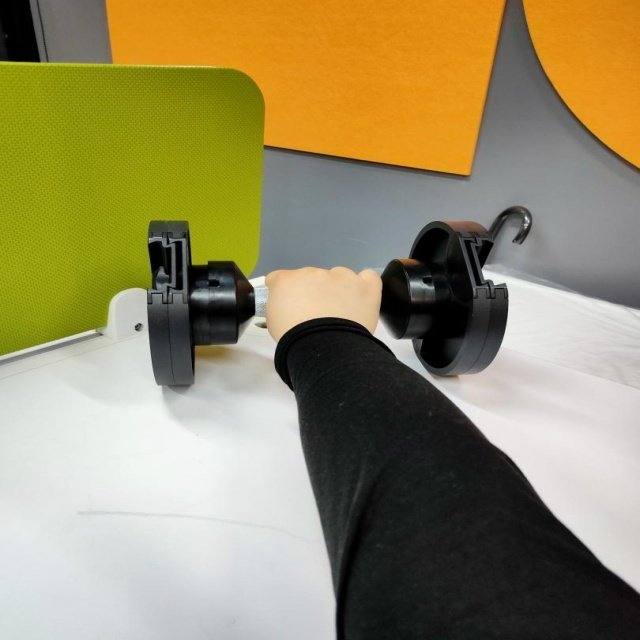03-6kg: (148, 220, 509, 387)
